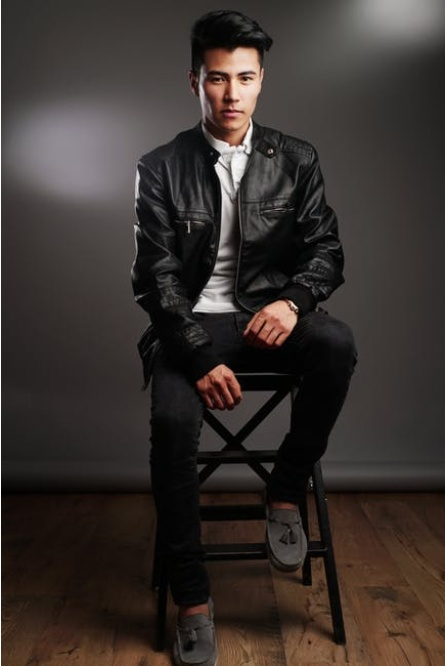face: (202, 48, 259, 129)
